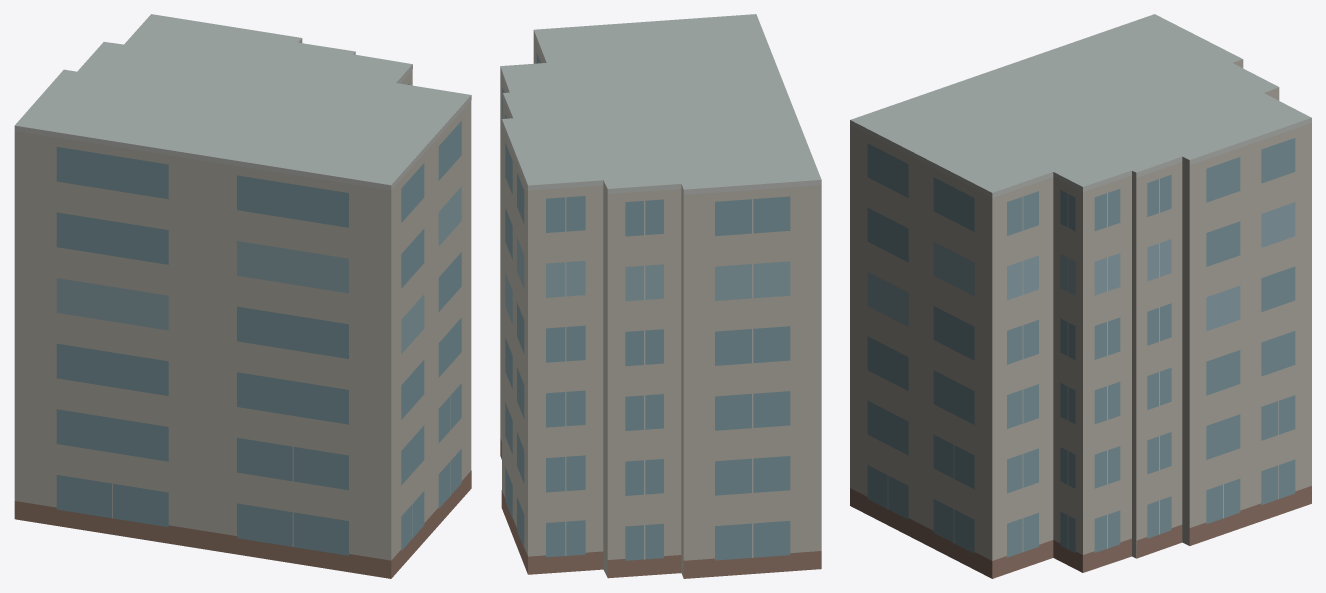
Rendered from survey-upis-32725018.glb.
3 renders of one model, left to right at view 1: azimuth 30°, elevation 25°; view 2: azimuth 150°, elevation 25°; view 3: azimuth 270°, elevation 25°, orthographic.
Parts seen in each view (by area): view 1: survey-upis-32725018.tmp; view 2: survey-upis-32725018.tmp; view 3: survey-upis-32725018.tmp.
Boxes of the visible parts, x1=… form: survey-upis-32725018.tmp: x1=14, y1=14, x2=471, y2=578; survey-upis-32725018.tmp: x1=500, y1=14, x2=821, y2=578; survey-upis-32725018.tmp: x1=850, y1=14, x2=1311, y2=578.
Size of the model in its own units: 18.21 by 18.3 by 19.85.
